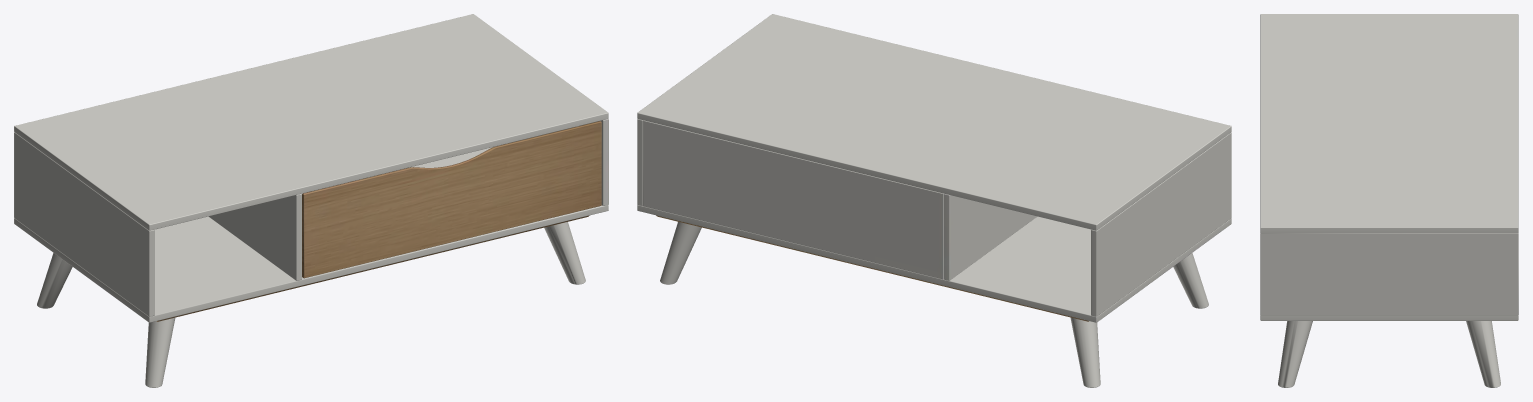
The picture shows the model from 3 angles, left to right: view 1: azimuth 30°, elevation 25°; view 2: azimuth 150°, elevation 25°; view 3: azimuth 270°, elevation 25°; orthographic projection. The views are drawn at different scales.
Parts seen in each view (by area): view 1: RootNode; view 2: RootNode; view 3: RootNode.
Boxes of the visible parts, x1,y1,x2,y2 form: RootNode: (14,14,608,387); RootNode: (637,14,1231,387); RootNode: (1260,14,1518,387).
Size of the model in its own units: 1.19 by 0.4316 by 0.6092.
1 material, 1 textured.
